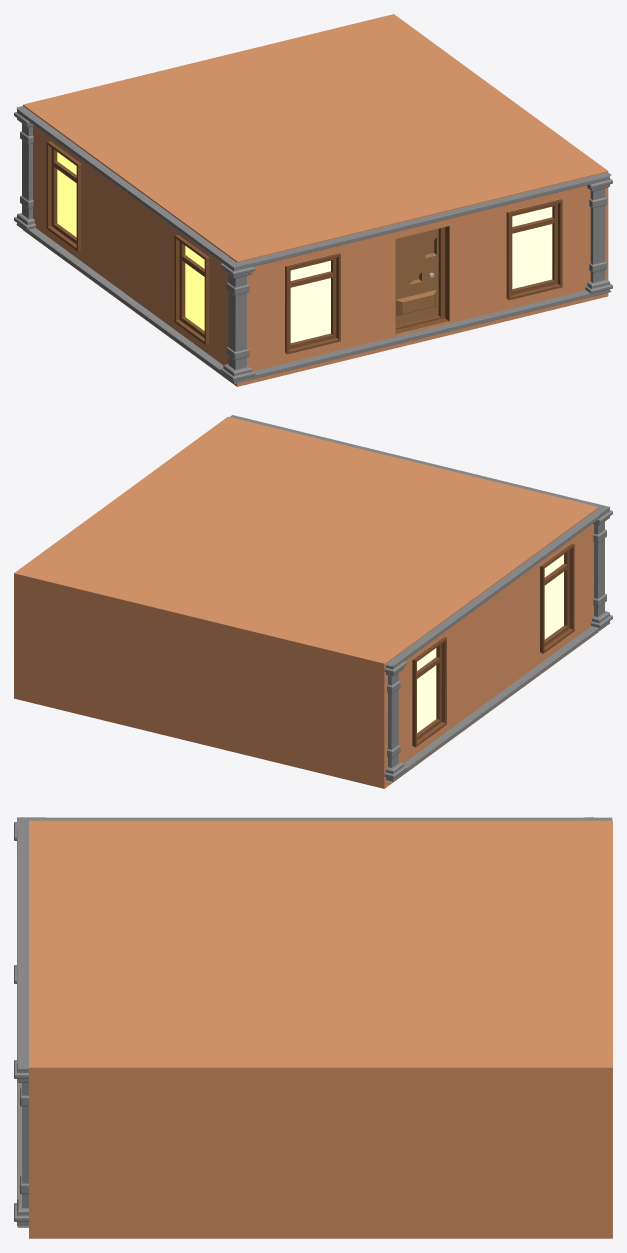
File: Corner building low.fbx
The picture shows the model from 3 angles, top to bottom: view 1: azimuth 30°, elevation 25°; view 2: azimuth 150°, elevation 25°; view 3: azimuth 270°, elevation 25°; orthographic projection. The views are drawn at different scales.
Visible parts, largest first — view 1: CORNER BUILDING LOW; view 2: CORNER BUILDING LOW; view 3: CORNER BUILDING LOW.
Boxes of the visible parts, x1=… form: CORNER BUILDING LOW: x1=14, y1=14, x2=612, y2=386; CORNER BUILDING LOW: x1=14, y1=415, x2=612, y2=788; CORNER BUILDING LOW: x1=14, y1=817, x2=612, y2=1238.
Size of the model in its own units: 1025 by 324 by 1025.
